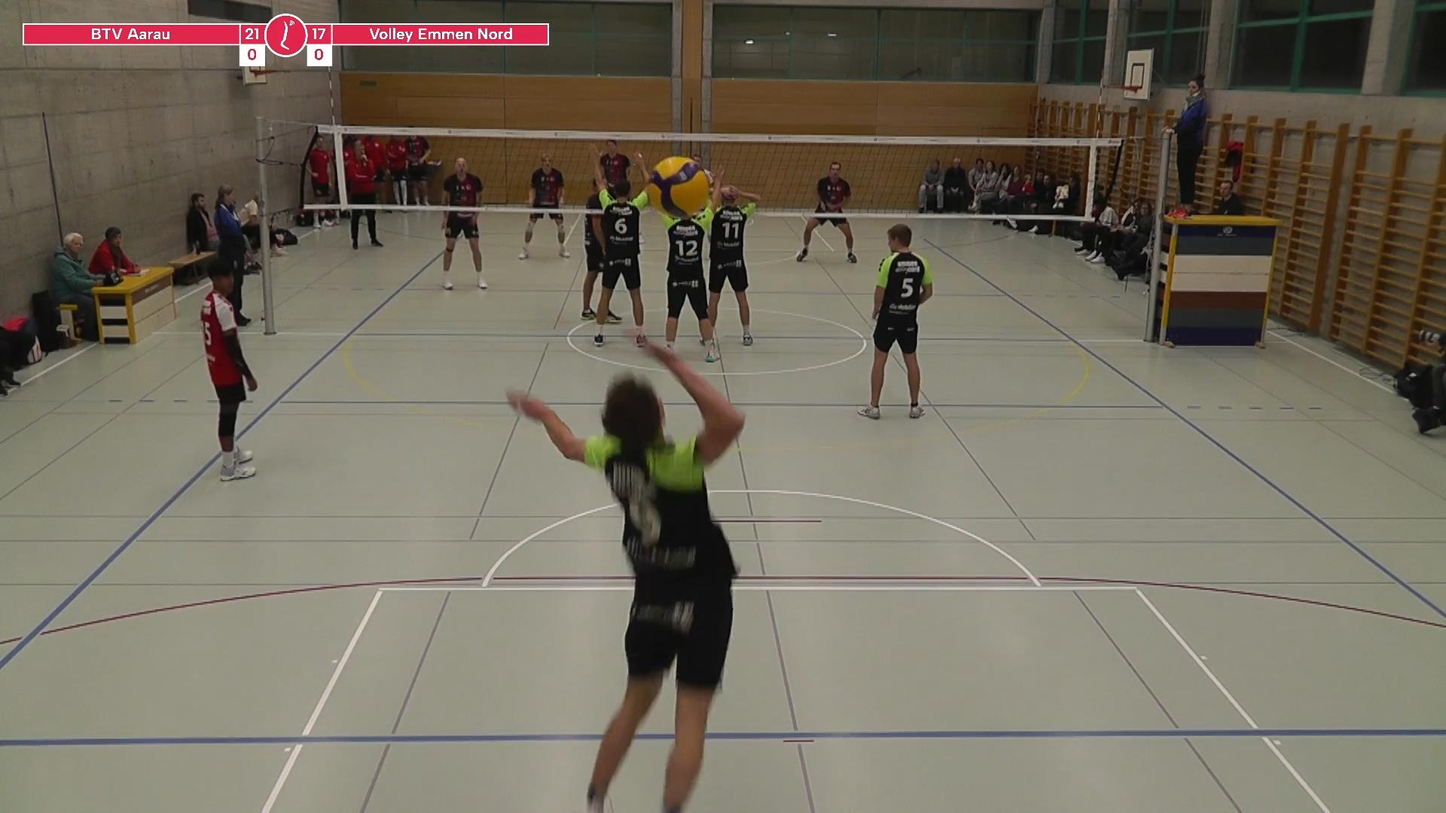battuta: (497, 316, 770, 813)
